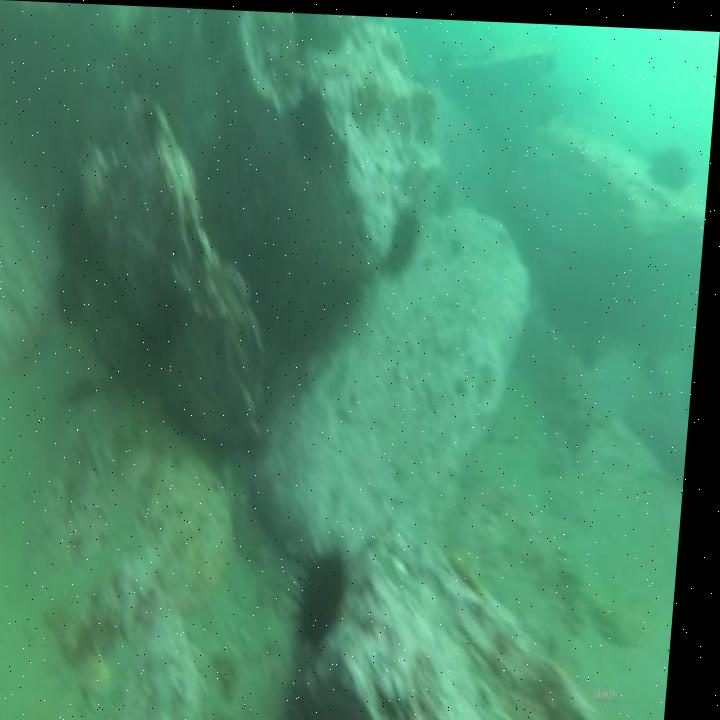echinus: (295, 526, 364, 656), (295, 80, 335, 159), (650, 128, 697, 194), (394, 194, 424, 266)
